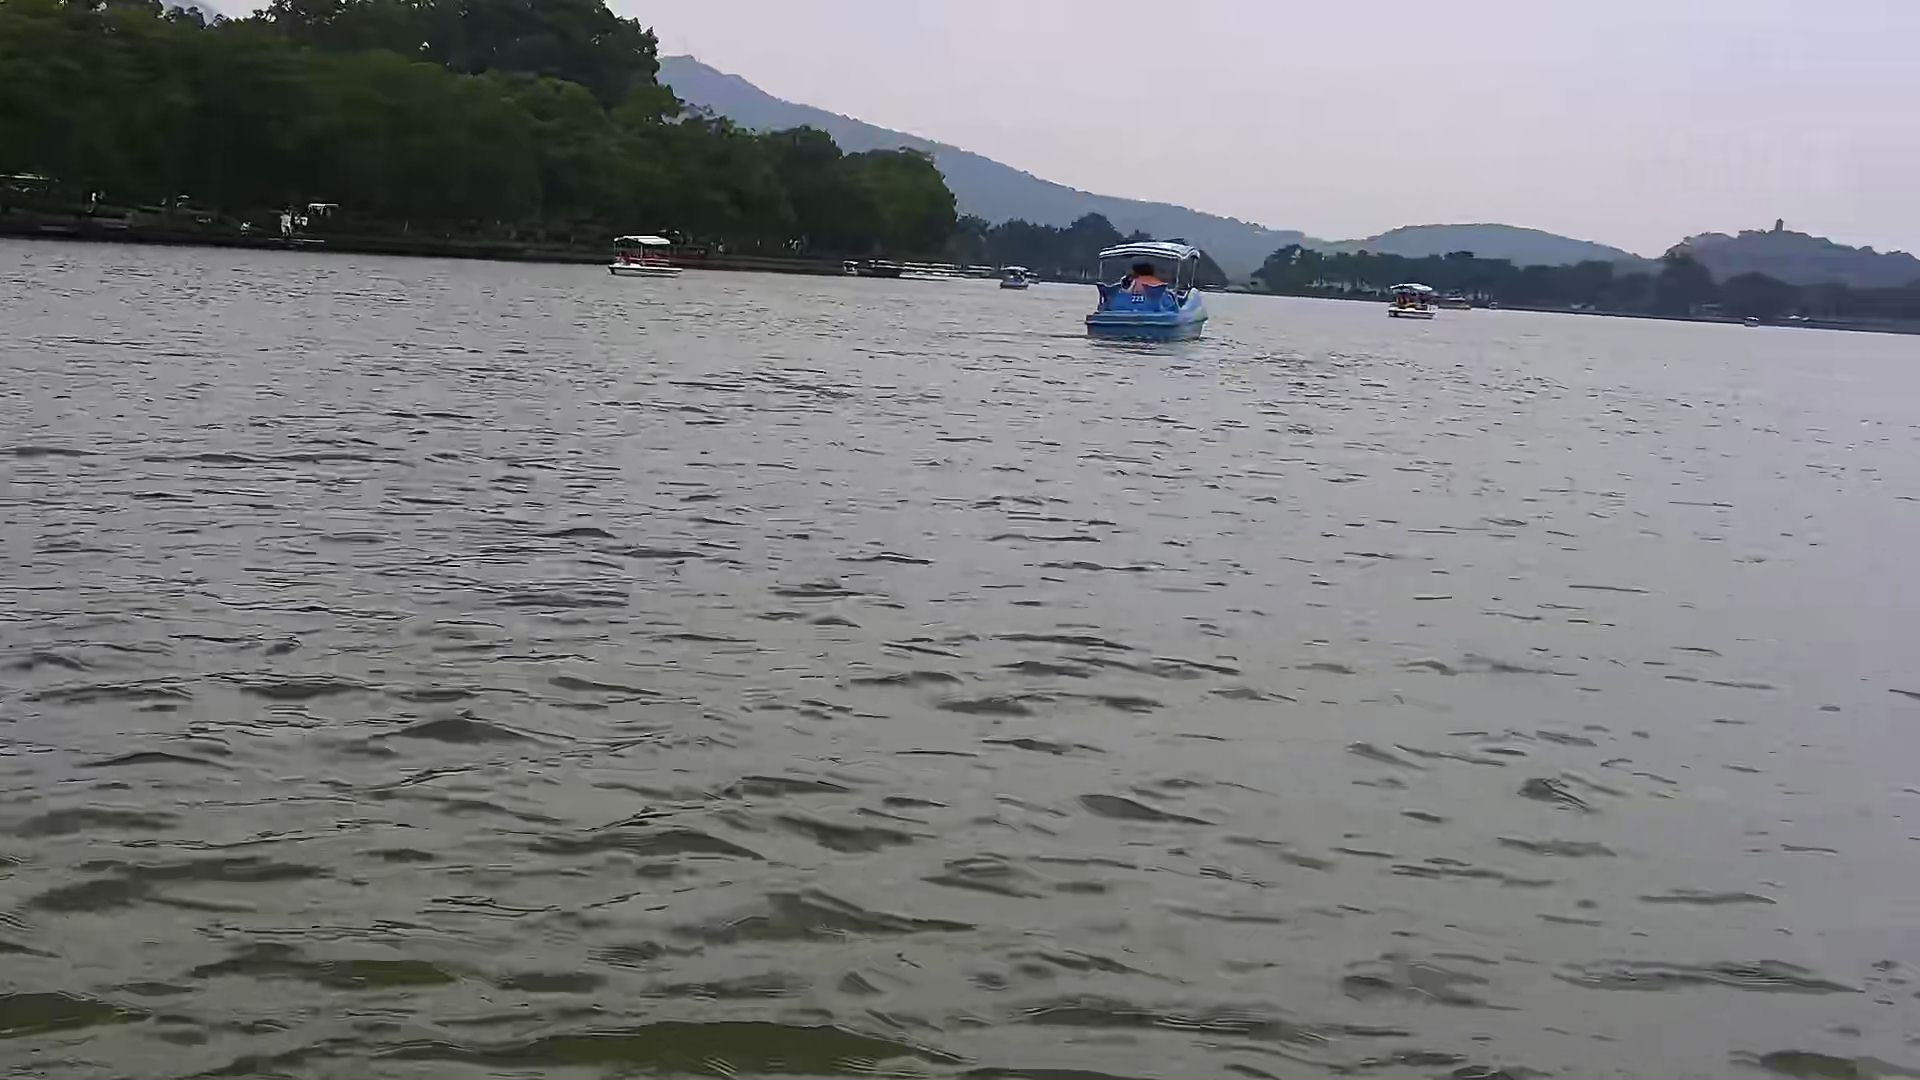boat: (1077, 233, 1213, 348), (601, 229, 684, 280), (1381, 277, 1437, 322), (992, 260, 1033, 291)
